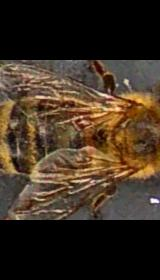varroa_mite: (71, 107, 94, 135)
